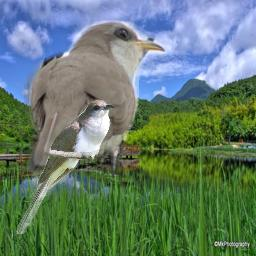Cuckoo: (23, 20, 165, 176), (15, 99, 115, 235)
